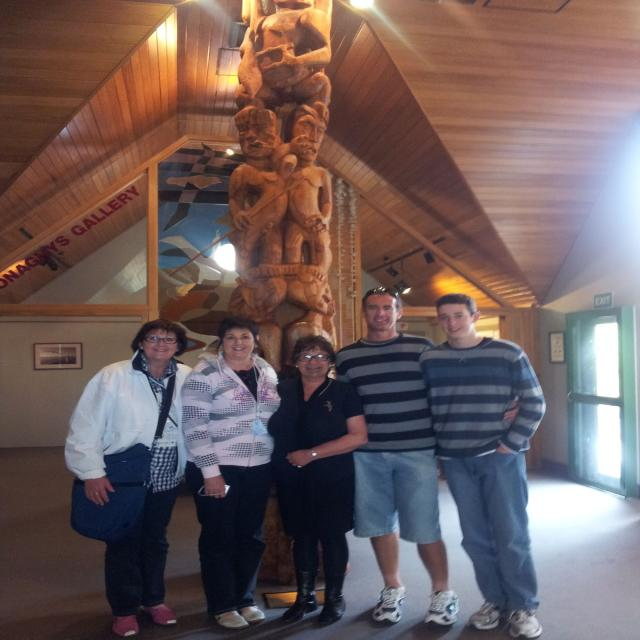body: (326, 285, 525, 634), (222, 1, 352, 382), (413, 292, 550, 640), (62, 317, 205, 639), (176, 315, 286, 633), (262, 334, 372, 632)
